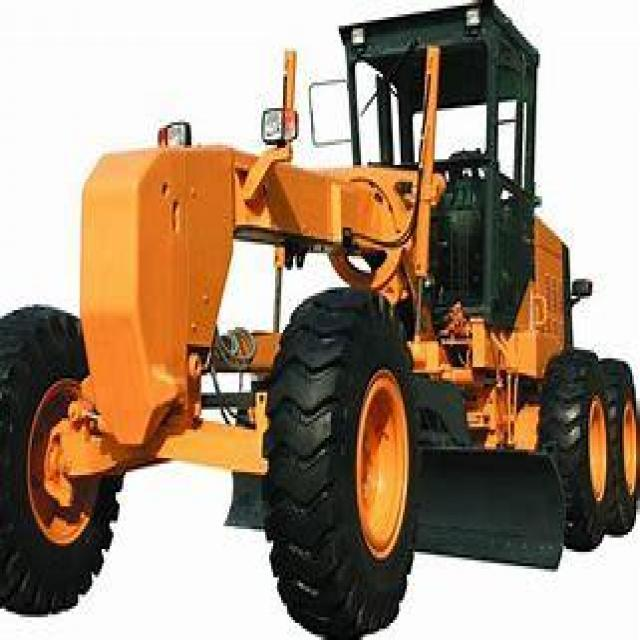Grader: (2, 6, 638, 628)
